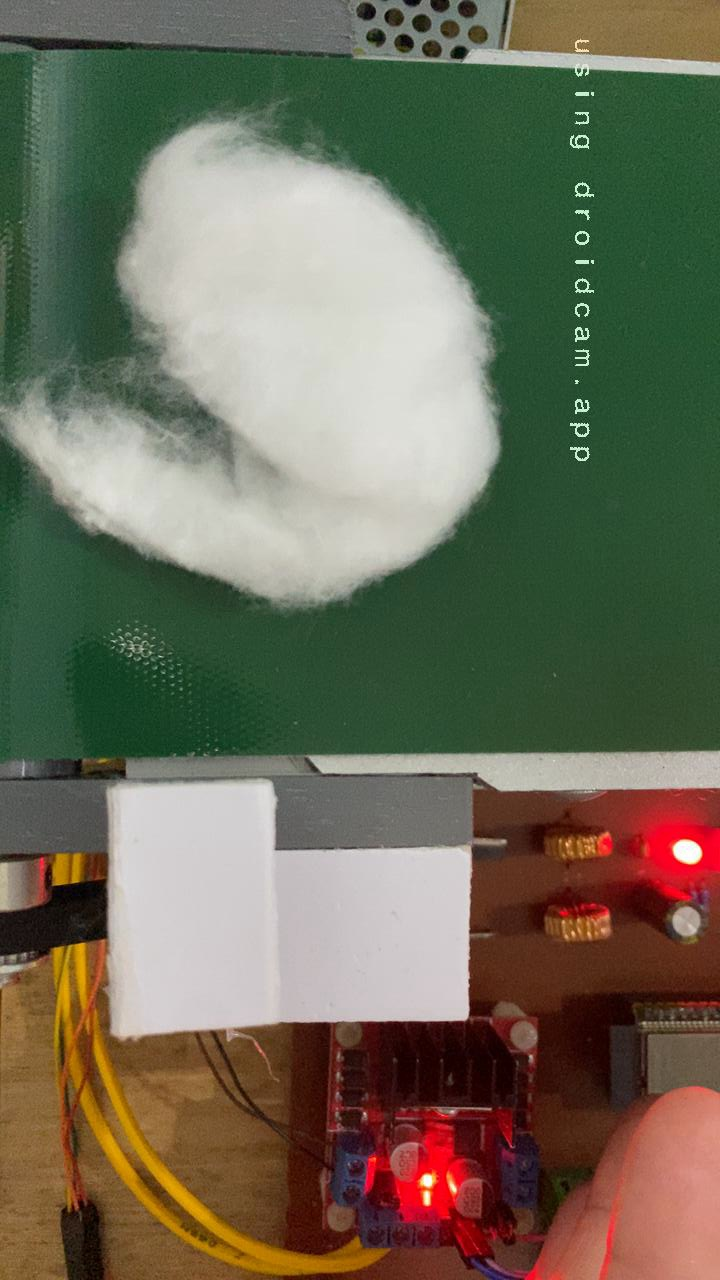cotton: (0, 113, 508, 615)
